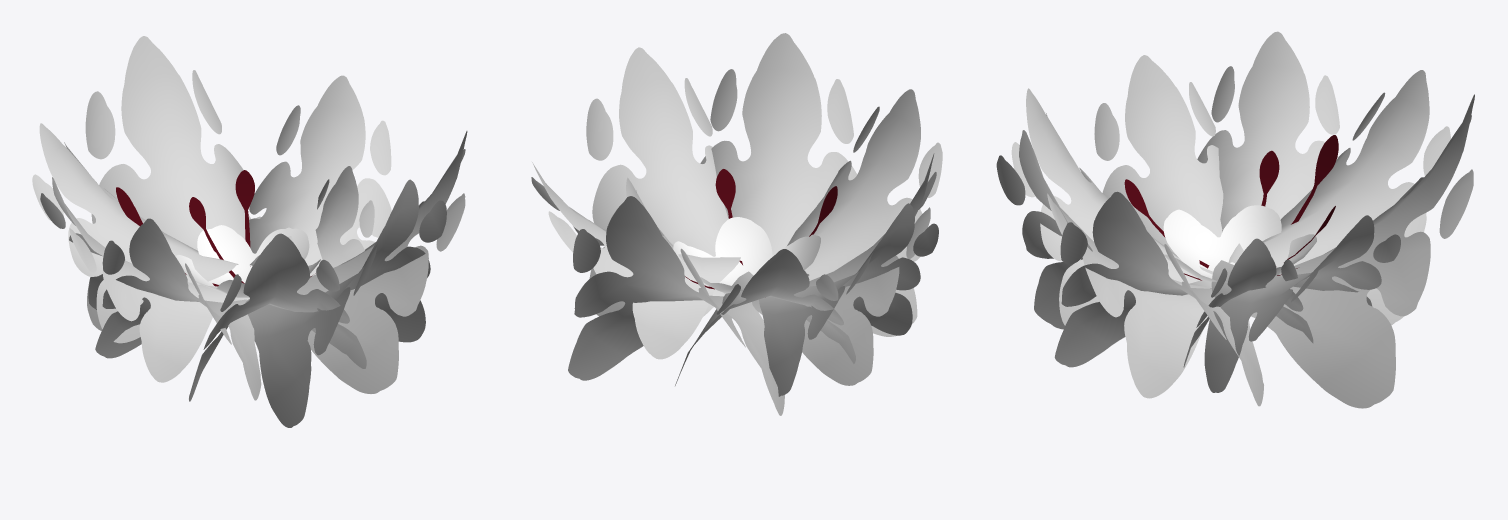
File: Mesh_Plant006.fbx
3 views of the same model, side by side, from view 1: azimuth 30°, elevation 25°; view 2: azimuth 150°, elevation 25°; view 3: azimuth 270°, elevation 25° (orthographic). The views are drawn at different scales.
Visible parts, largest first — view 1: Plane152, Plane162, Plane151, Plane154; view 2: Plane152, Plane162, Plane159; view 3: Plane152, Plane162, Plane160, Plane157, Plane158.
Boxes of the visible parts, x1,y1,x2,y2 form: Plane152: (32, 36, 467, 427); Plane162: (175, 225, 320, 297); Plane151: (235, 170, 254, 266); Plane154: (189, 197, 244, 283); Plane152: (531, 33, 942, 415); Plane162: (673, 217, 820, 293); Plane159: (715, 169, 742, 264); Plane152: (996, 31, 1474, 408); Plane162: (1163, 205, 1316, 282); Plane160: (1291, 135, 1338, 224); Plane157: (1259, 150, 1279, 206); Plane158: (1124, 179, 1209, 268).
Size of the model in its own units: 1.21 by 1.03 by 1.25.
